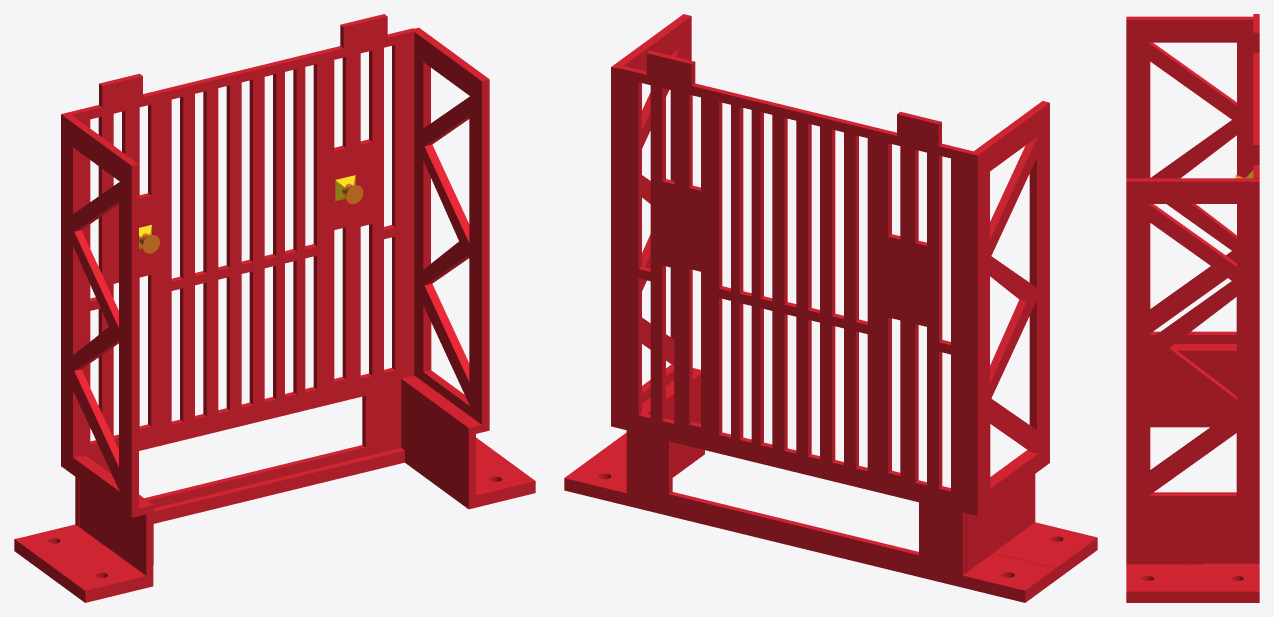
Rendered from tinker.obj.
3 views of the same model, side by side, from view 1: azimuth 30°, elevation 25°; view 2: azimuth 150°, elevation 25°; view 3: azimuth 270°, elevation 25° (orthographic). The views are drawn at different scales.
Visible parts, largest first — view 1: group_0_15277357; view 2: group_0_15277357; view 3: group_0_15277357.
Part boxes in pixels (x1,y1,x2,y2): group_0_15277357: (14,14,535,602); group_0_15277357: (564,14,1097,602); group_0_15277357: (1126,14,1259,602).
Bounding box in the file's own units: 155 × 147 × 42.2.
